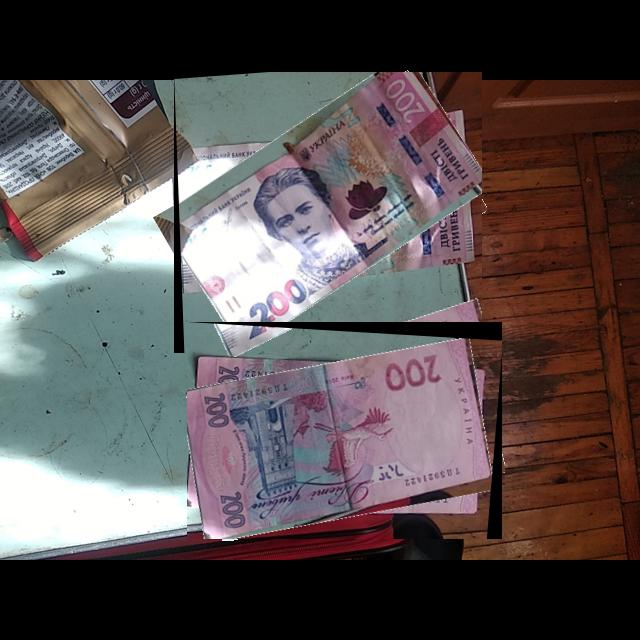200uah: (181, 72, 483, 351), (187, 335, 495, 540)
